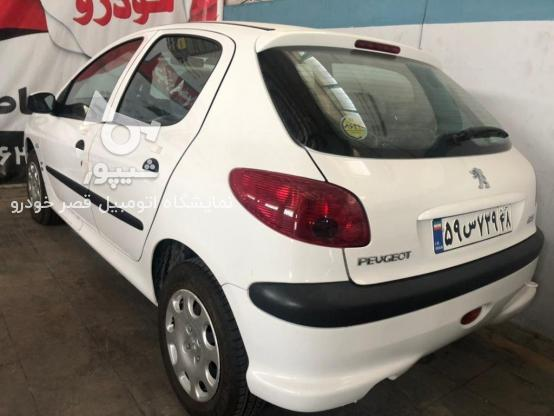car: (430, 206, 515, 253)
